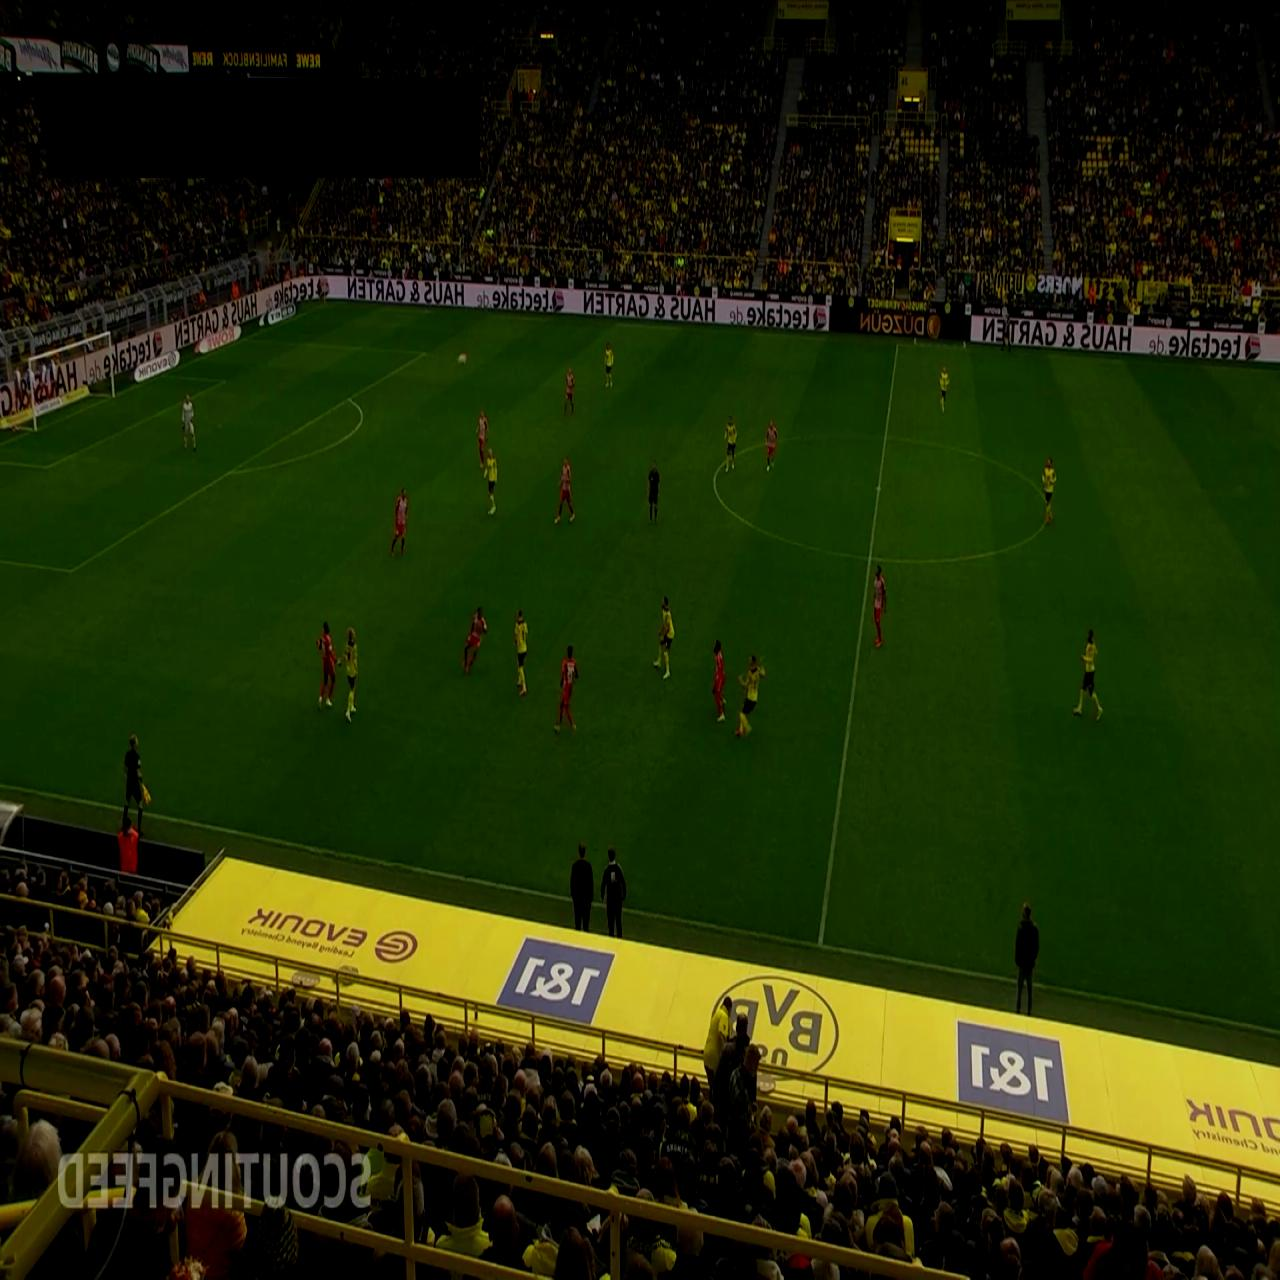ball: (458, 351, 467, 366)
player: (1072, 627, 1103, 722), (734, 653, 767, 738), (552, 645, 578, 735), (462, 606, 489, 674), (317, 620, 337, 710), (342, 627, 359, 723), (658, 596, 675, 682), (554, 456, 575, 524), (513, 608, 529, 696), (390, 486, 409, 557), (872, 564, 887, 648), (711, 639, 726, 723), (483, 447, 498, 515), (1042, 456, 1057, 524), (181, 391, 197, 452), (476, 409, 489, 470), (724, 414, 737, 473), (765, 418, 778, 472), (563, 366, 575, 416), (603, 340, 615, 389), (939, 364, 950, 414)
referee: (123, 734, 151, 836), (647, 460, 660, 524), (1002, 310, 1012, 352)
